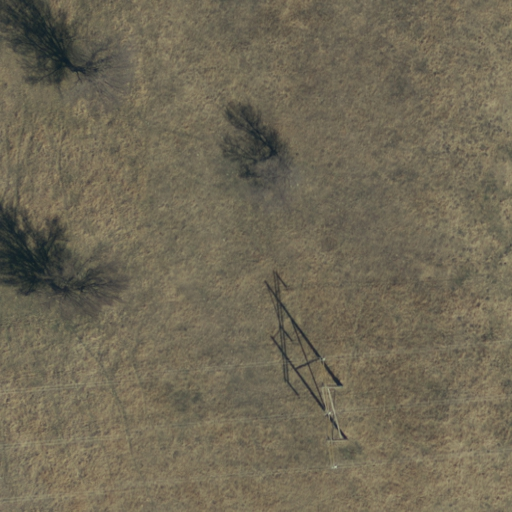TT: (310, 353, 353, 476)
